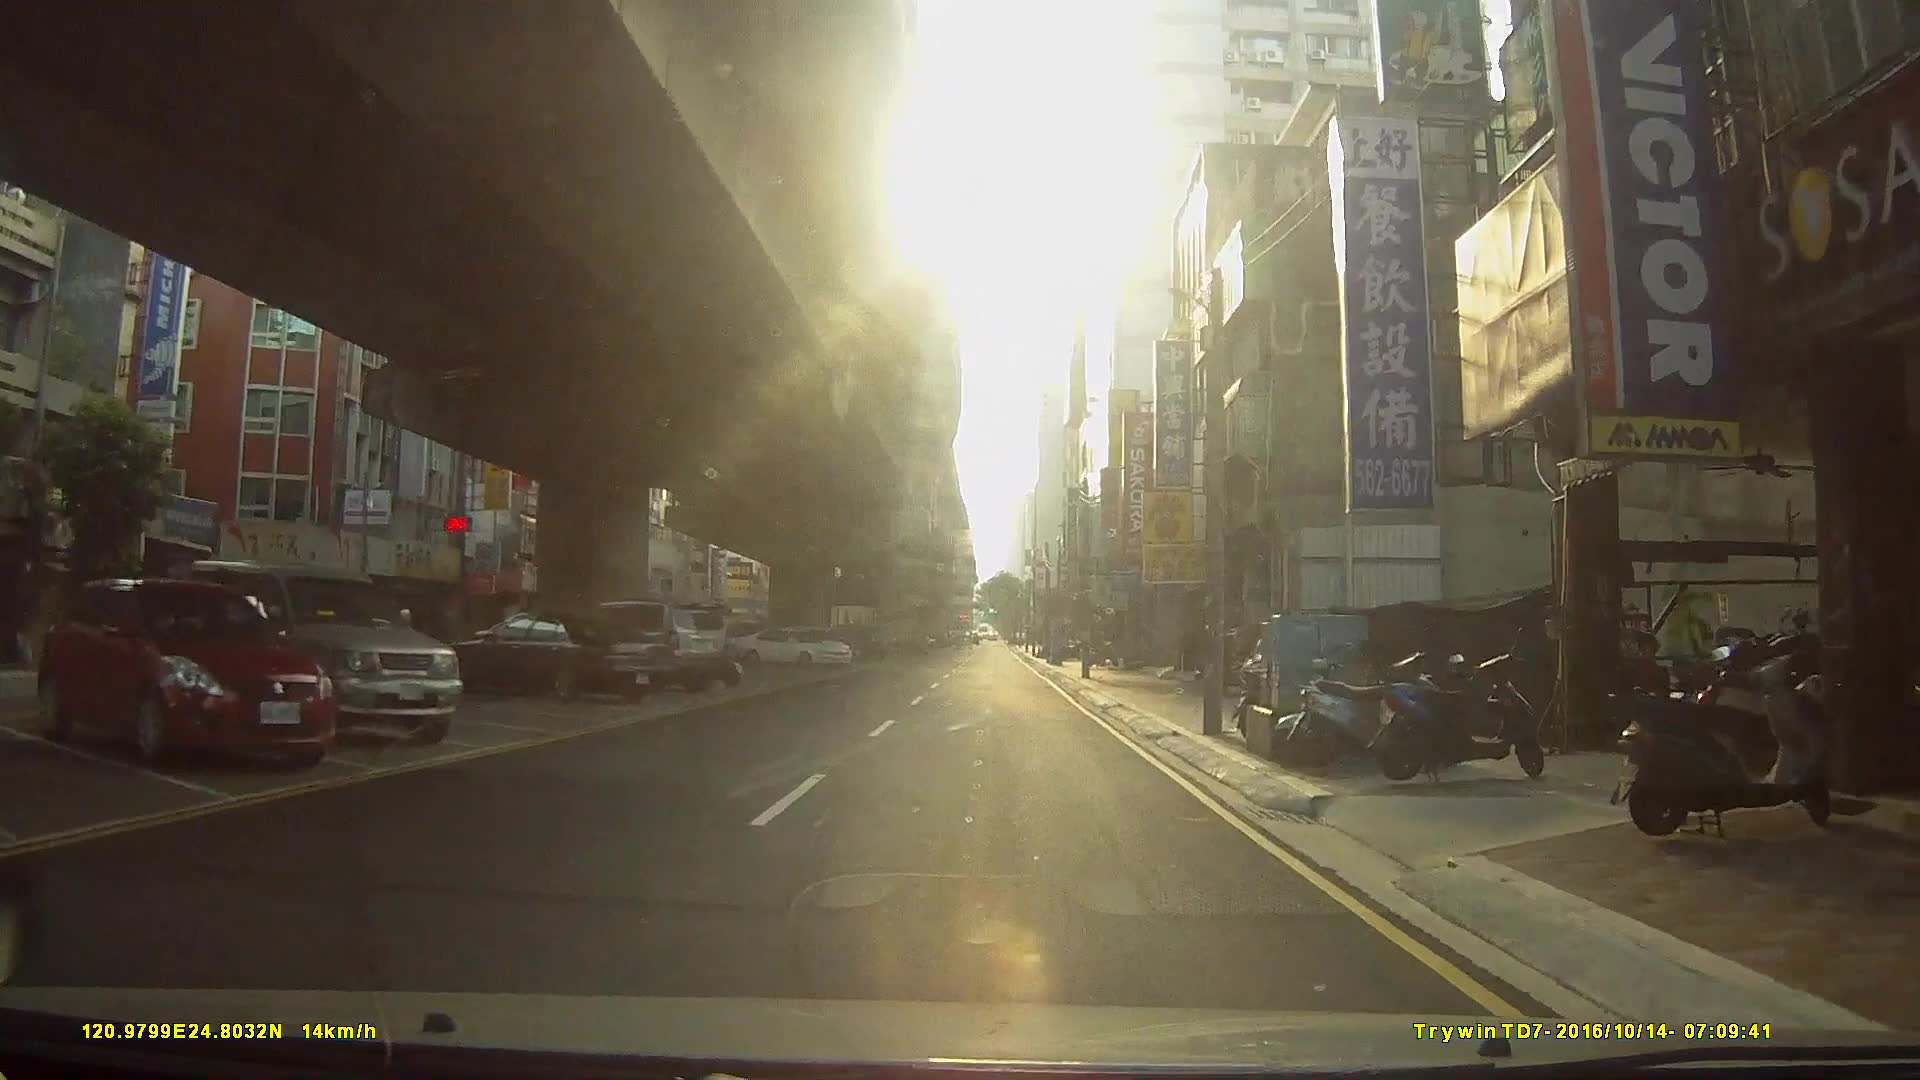vehicle: (36, 578, 335, 767), (179, 556, 463, 752), (454, 611, 676, 704), (563, 597, 728, 694), (733, 626, 855, 670)
